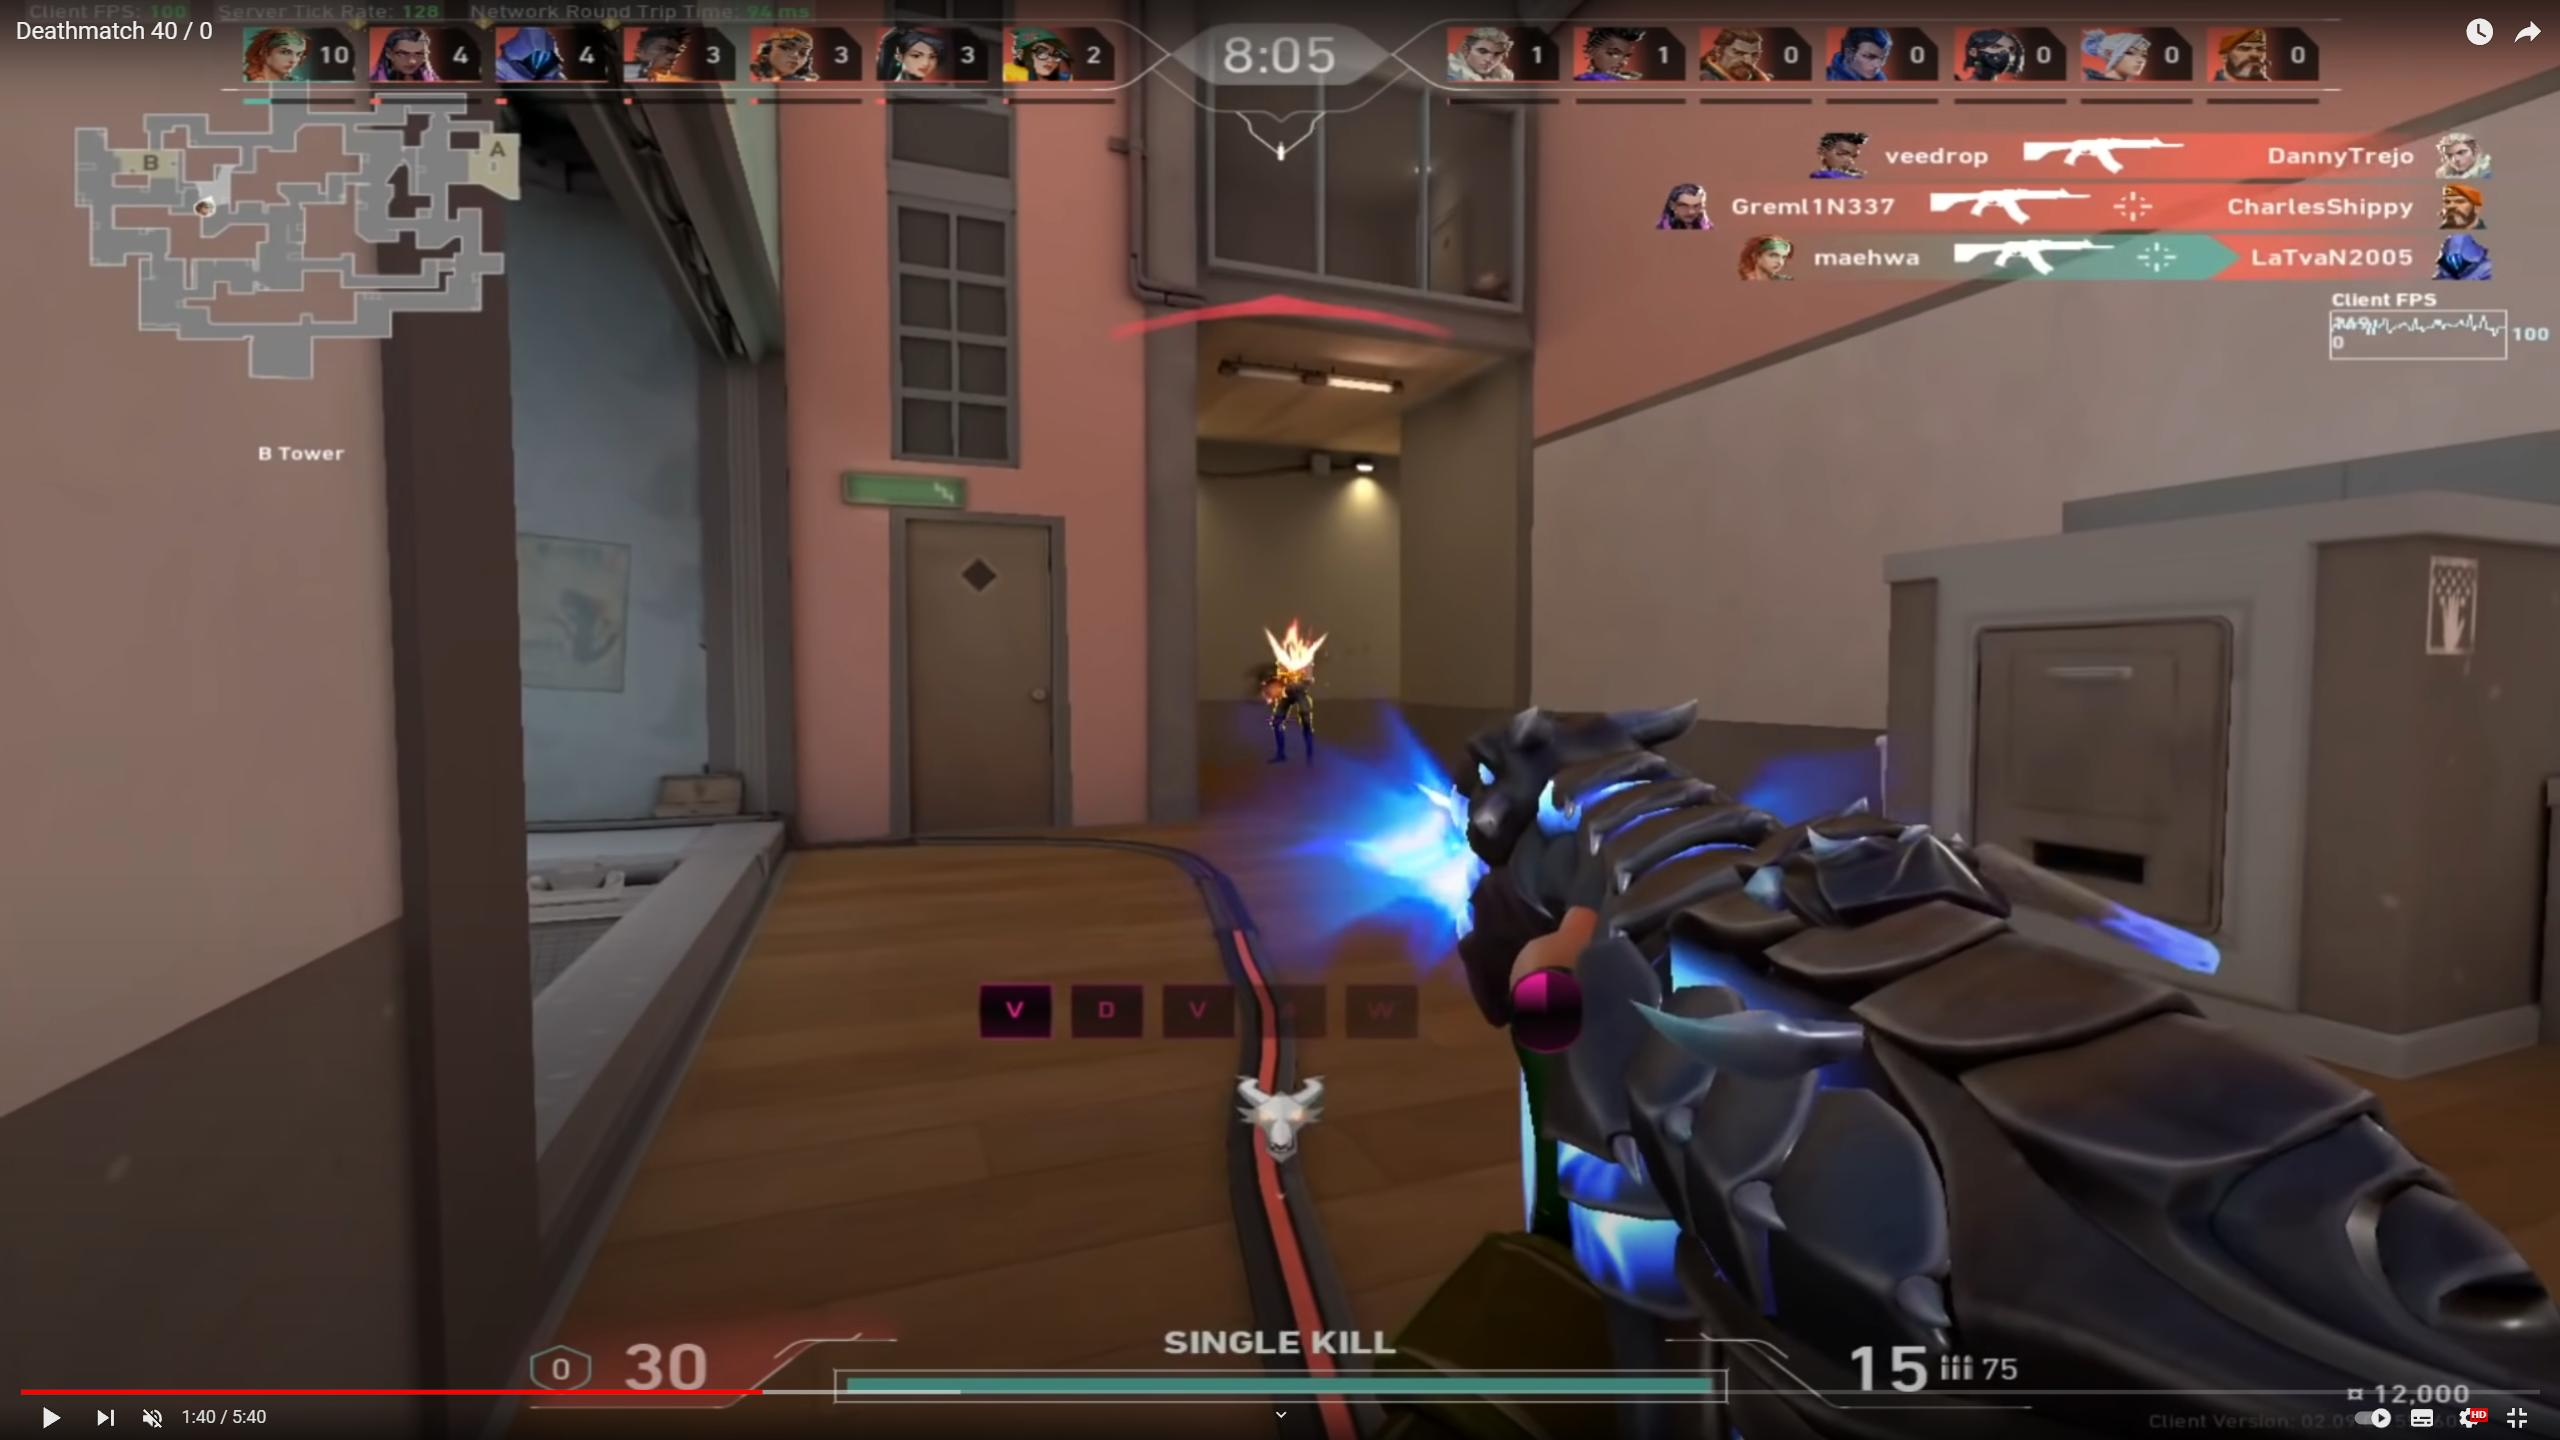enemyHead: (1276, 638, 1319, 680)
